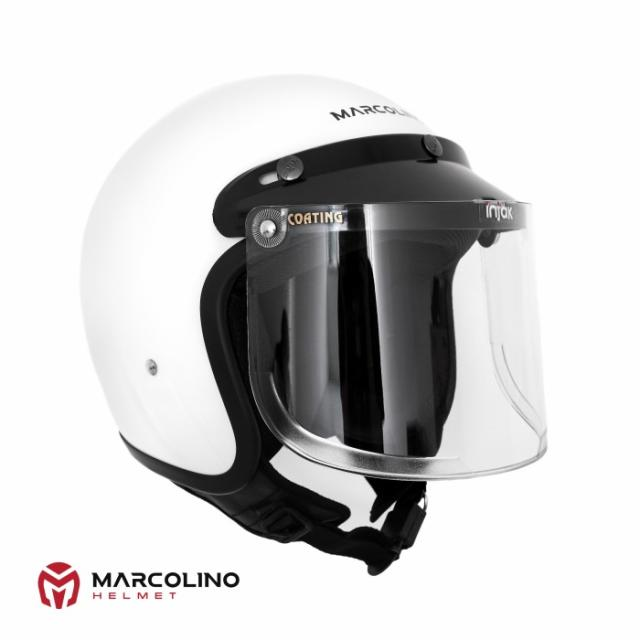Helm: (79, 70, 548, 534)
